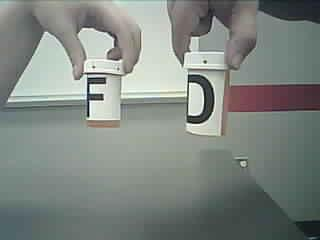Bottle D: (179, 46, 236, 143)
Bottle F: (80, 56, 126, 131)
